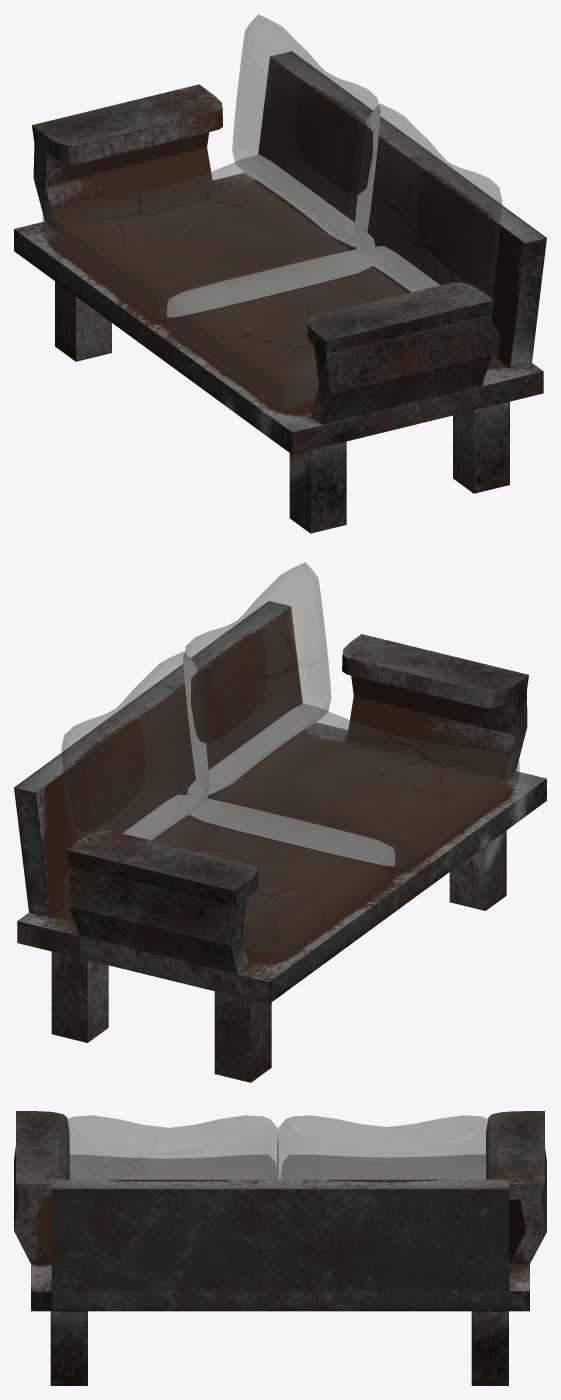
File: Ext_Sofa_Ruin.glb
The picture shows the model from 3 angles, top to bottom: view 1: azimuth 30°, elevation 25°; view 2: azimuth 150°, elevation 25°; view 3: azimuth 270°, elevation 25°; orthographic projection. The views are drawn at different scales.
Parts seen in each view (by area): view 1: Base_Sofa, Cojines_Sofa; view 2: Base_Sofa, Cojines_Sofa; view 3: Base_Sofa, Cojines_Sofa.
Part boxes in pixels (x1,y1,x2,y2): Base_Sofa: (14,51,546,533); Cojines_Sofa: (42,14,501,409); Base_Sofa: (14,601,546,1082); Cojines_Sofa: (61,562,519,957); Base_Sofa: (14,1111,546,1385); Cojines_Sofa: (59,1115,496,1180).
Size of the model in its own units: 0.99 by 1.05 by 1.91.
2 materials, 2 textured.
